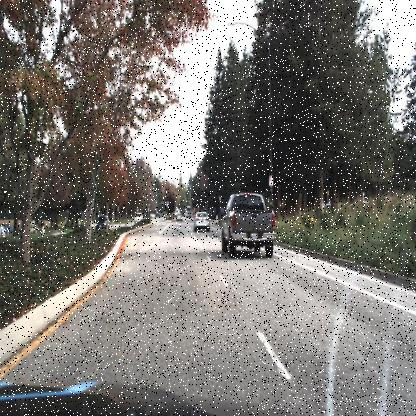car: (220, 189, 276, 258), (194, 209, 210, 233), (93, 213, 112, 229), (132, 210, 144, 224)
